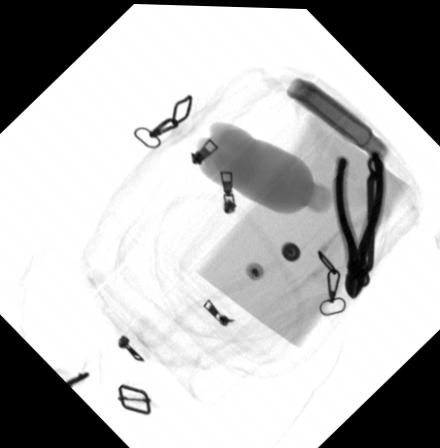Pliers: (332, 147, 384, 299)
Wrench: (355, 152, 385, 284)
